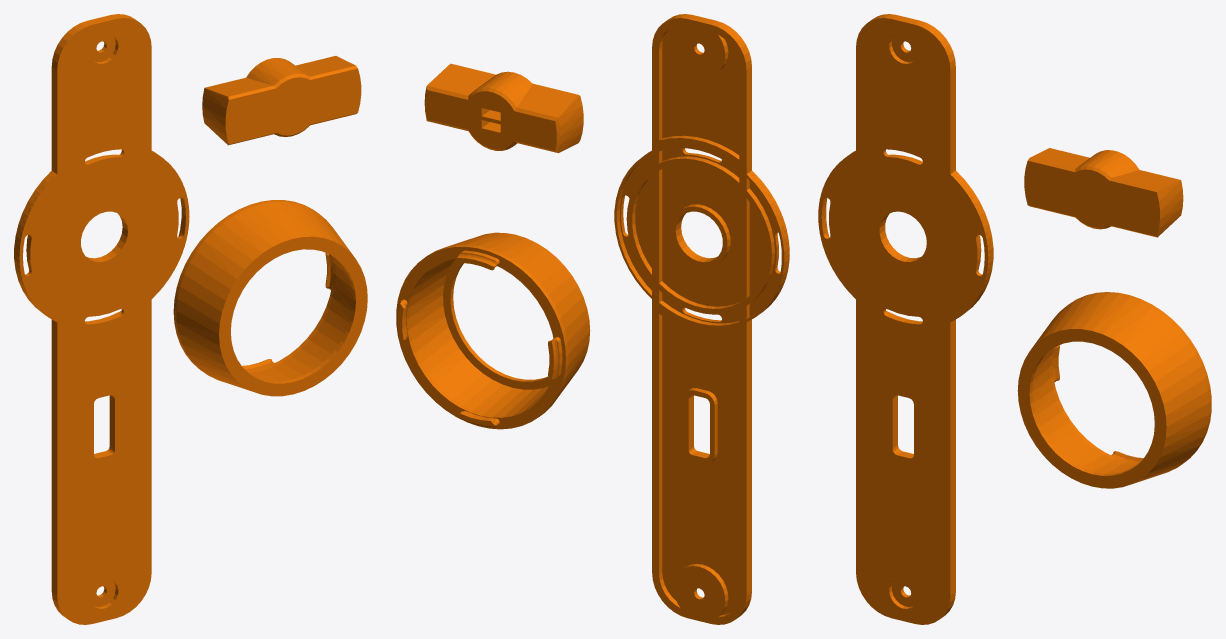
File: DoorHandleReplacement.glb
3 views of the same model, side by side, from view 1: azimuth 30°, elevation 25°; view 2: azimuth 150°, elevation 25°; view 3: azimuth 330°, elevation 25° (orthographic).
Visible parts, largest first — view 1: DoorHandleReplacement_LowRes; view 2: DoorHandleReplacement_LowRes; view 3: DoorHandleReplacement_LowRes.
Boxes of the visible parts, x1,y1,x2,y2 form: DoorHandleReplacement_LowRes: (14,14,367,624); DoorHandleReplacement_LowRes: (396,14,789,624); DoorHandleReplacement_LowRes: (818,14,1211,624).
Bounding box in the file's own units: 152 × 242 × 29.4.
